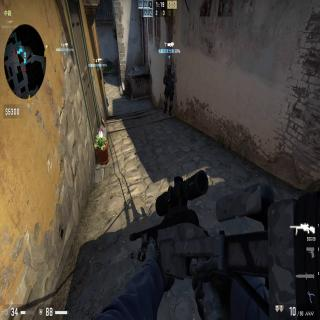CT-Body: (163, 62, 175, 118)
CT-Head: (166, 62, 172, 73)
